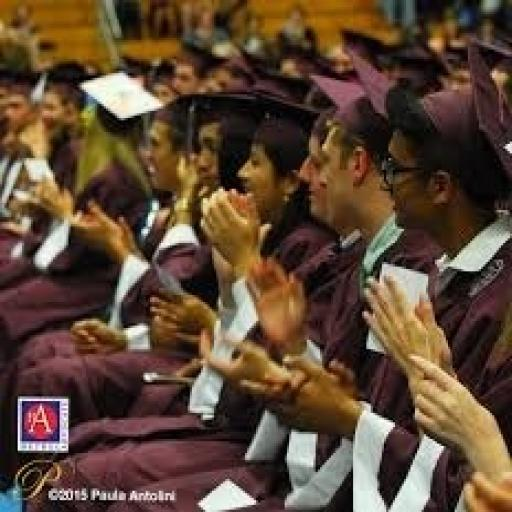clapping: (0, 0, 510, 510)
